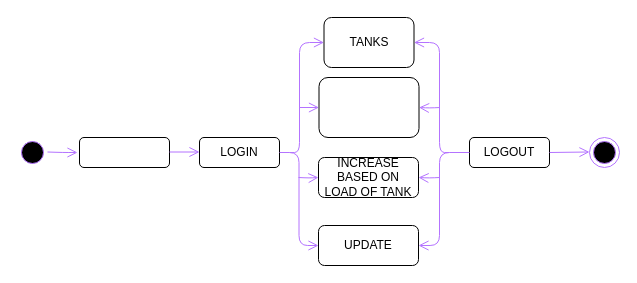
The diagram is 637 pixels wide and 283 high, and some of its shapes have lost their labels. The shapes that lost their labels are listed below. From the top down, each one's centre as x and y in pixels, then its label:
At pixel 368 107: "LEVEL OF TANK".
At pixel 124 152: "PLANT".
